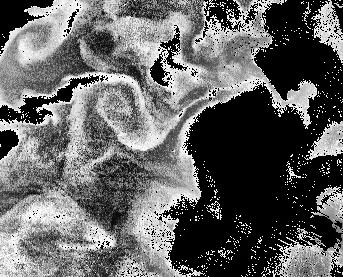AE: (90, 73, 146, 128), (14, 10, 67, 65)
